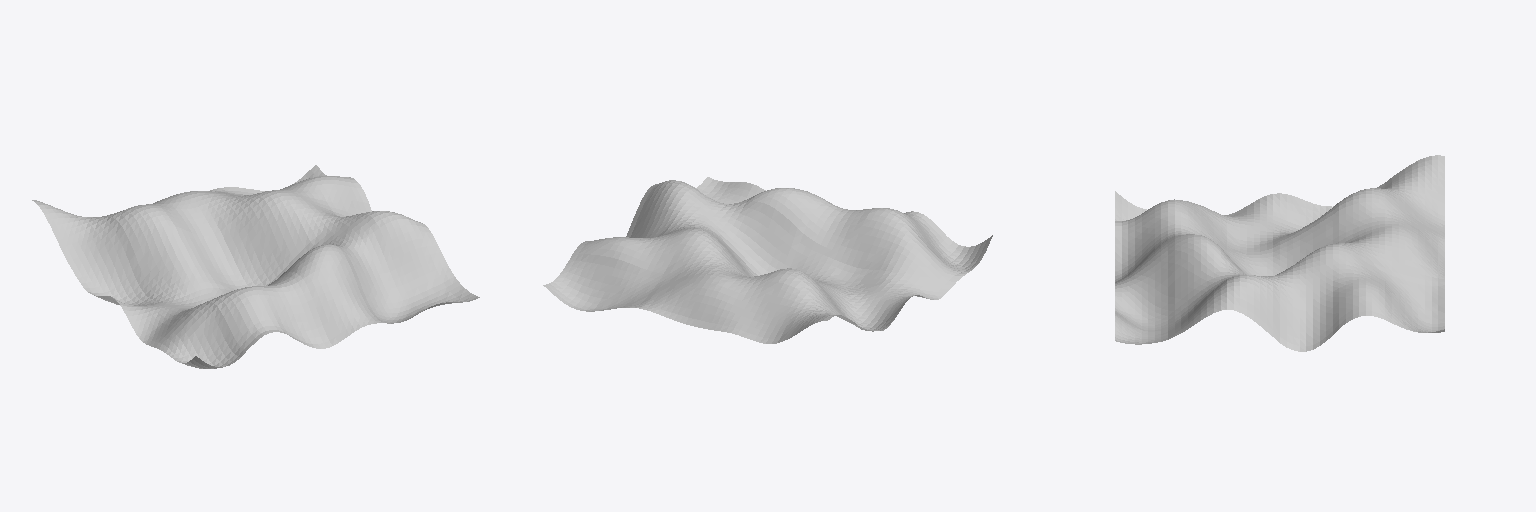
File: terrian.obj
The picture shows the model from 3 angles: view 1: azimuth 30°, elevation 25°; view 2: azimuth 150°, elevation 25°; view 3: azimuth 270°, elevation 25°; orthographic projection.
Bounding box in the file's own units: 44.07 × 9.33 × 44.07.